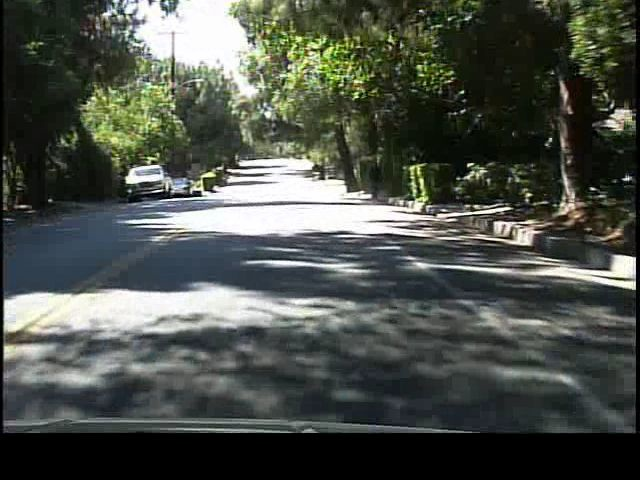person: (367, 155, 386, 204)
